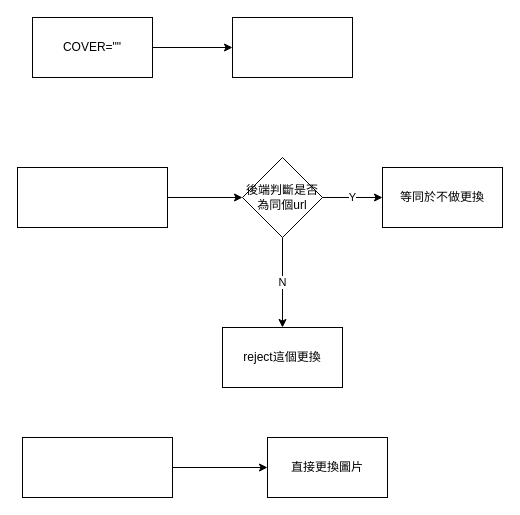
This 520x515 diagram has some shape labels left out. Each missing label, with the centre of its shape:
COVER="原圖案的URL": point 92,197
COVER="新圖片的##檔案": point 97,467
刪除圖片: point 292,47
